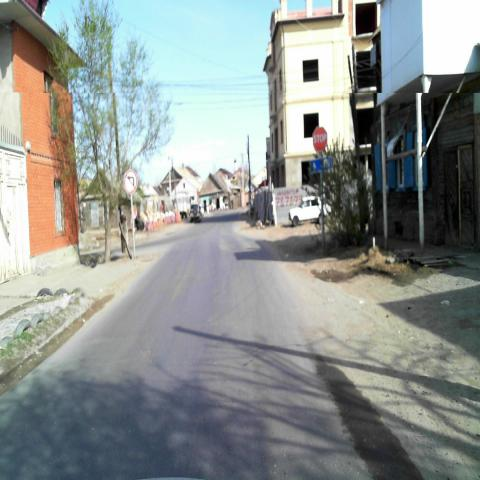3_18_2: (123, 169, 138, 195)
6_15_1: (309, 157, 332, 171)
